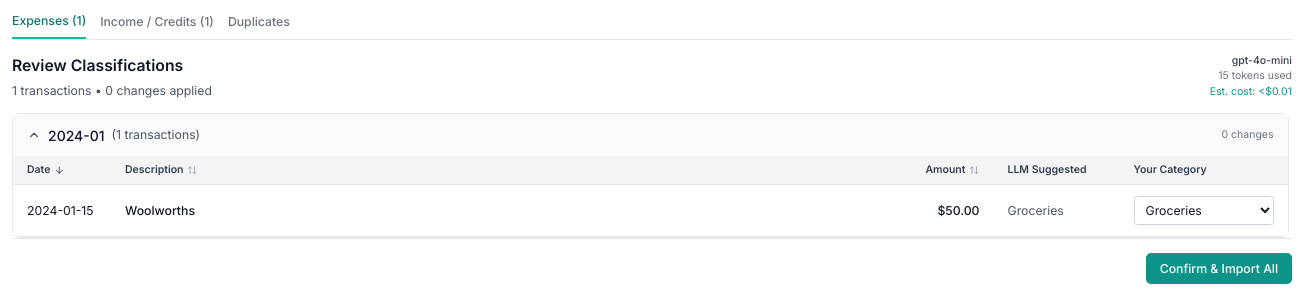
Test: CSVTransactionReviewTable › switches to credits tab
The width and height of the screenshot is (1304, 301).
Click the button "Income / Credits (1)" at (157, 25), box [100,12,214,38]
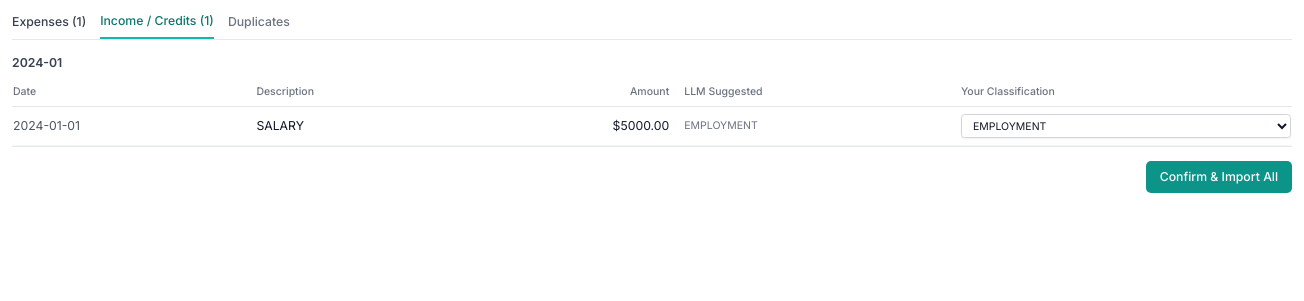
Result: the text "SALARY" is shown at [255,106,471,146]
